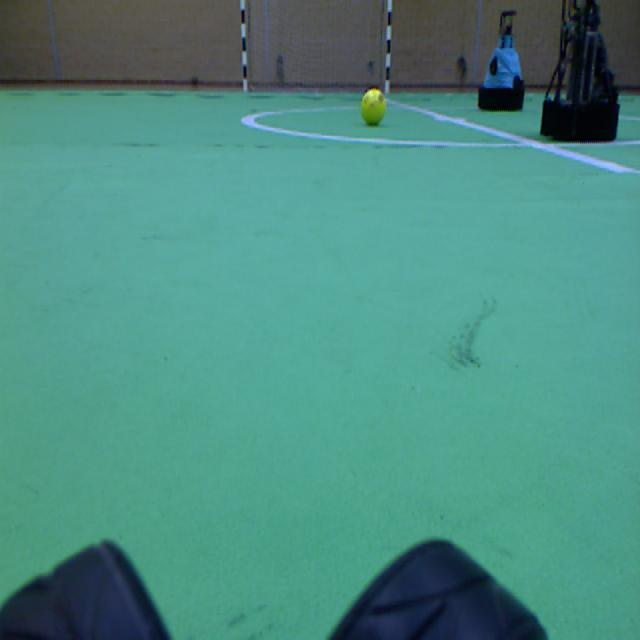ball: (361, 88, 385, 124)
robot: (540, 0, 618, 140)
